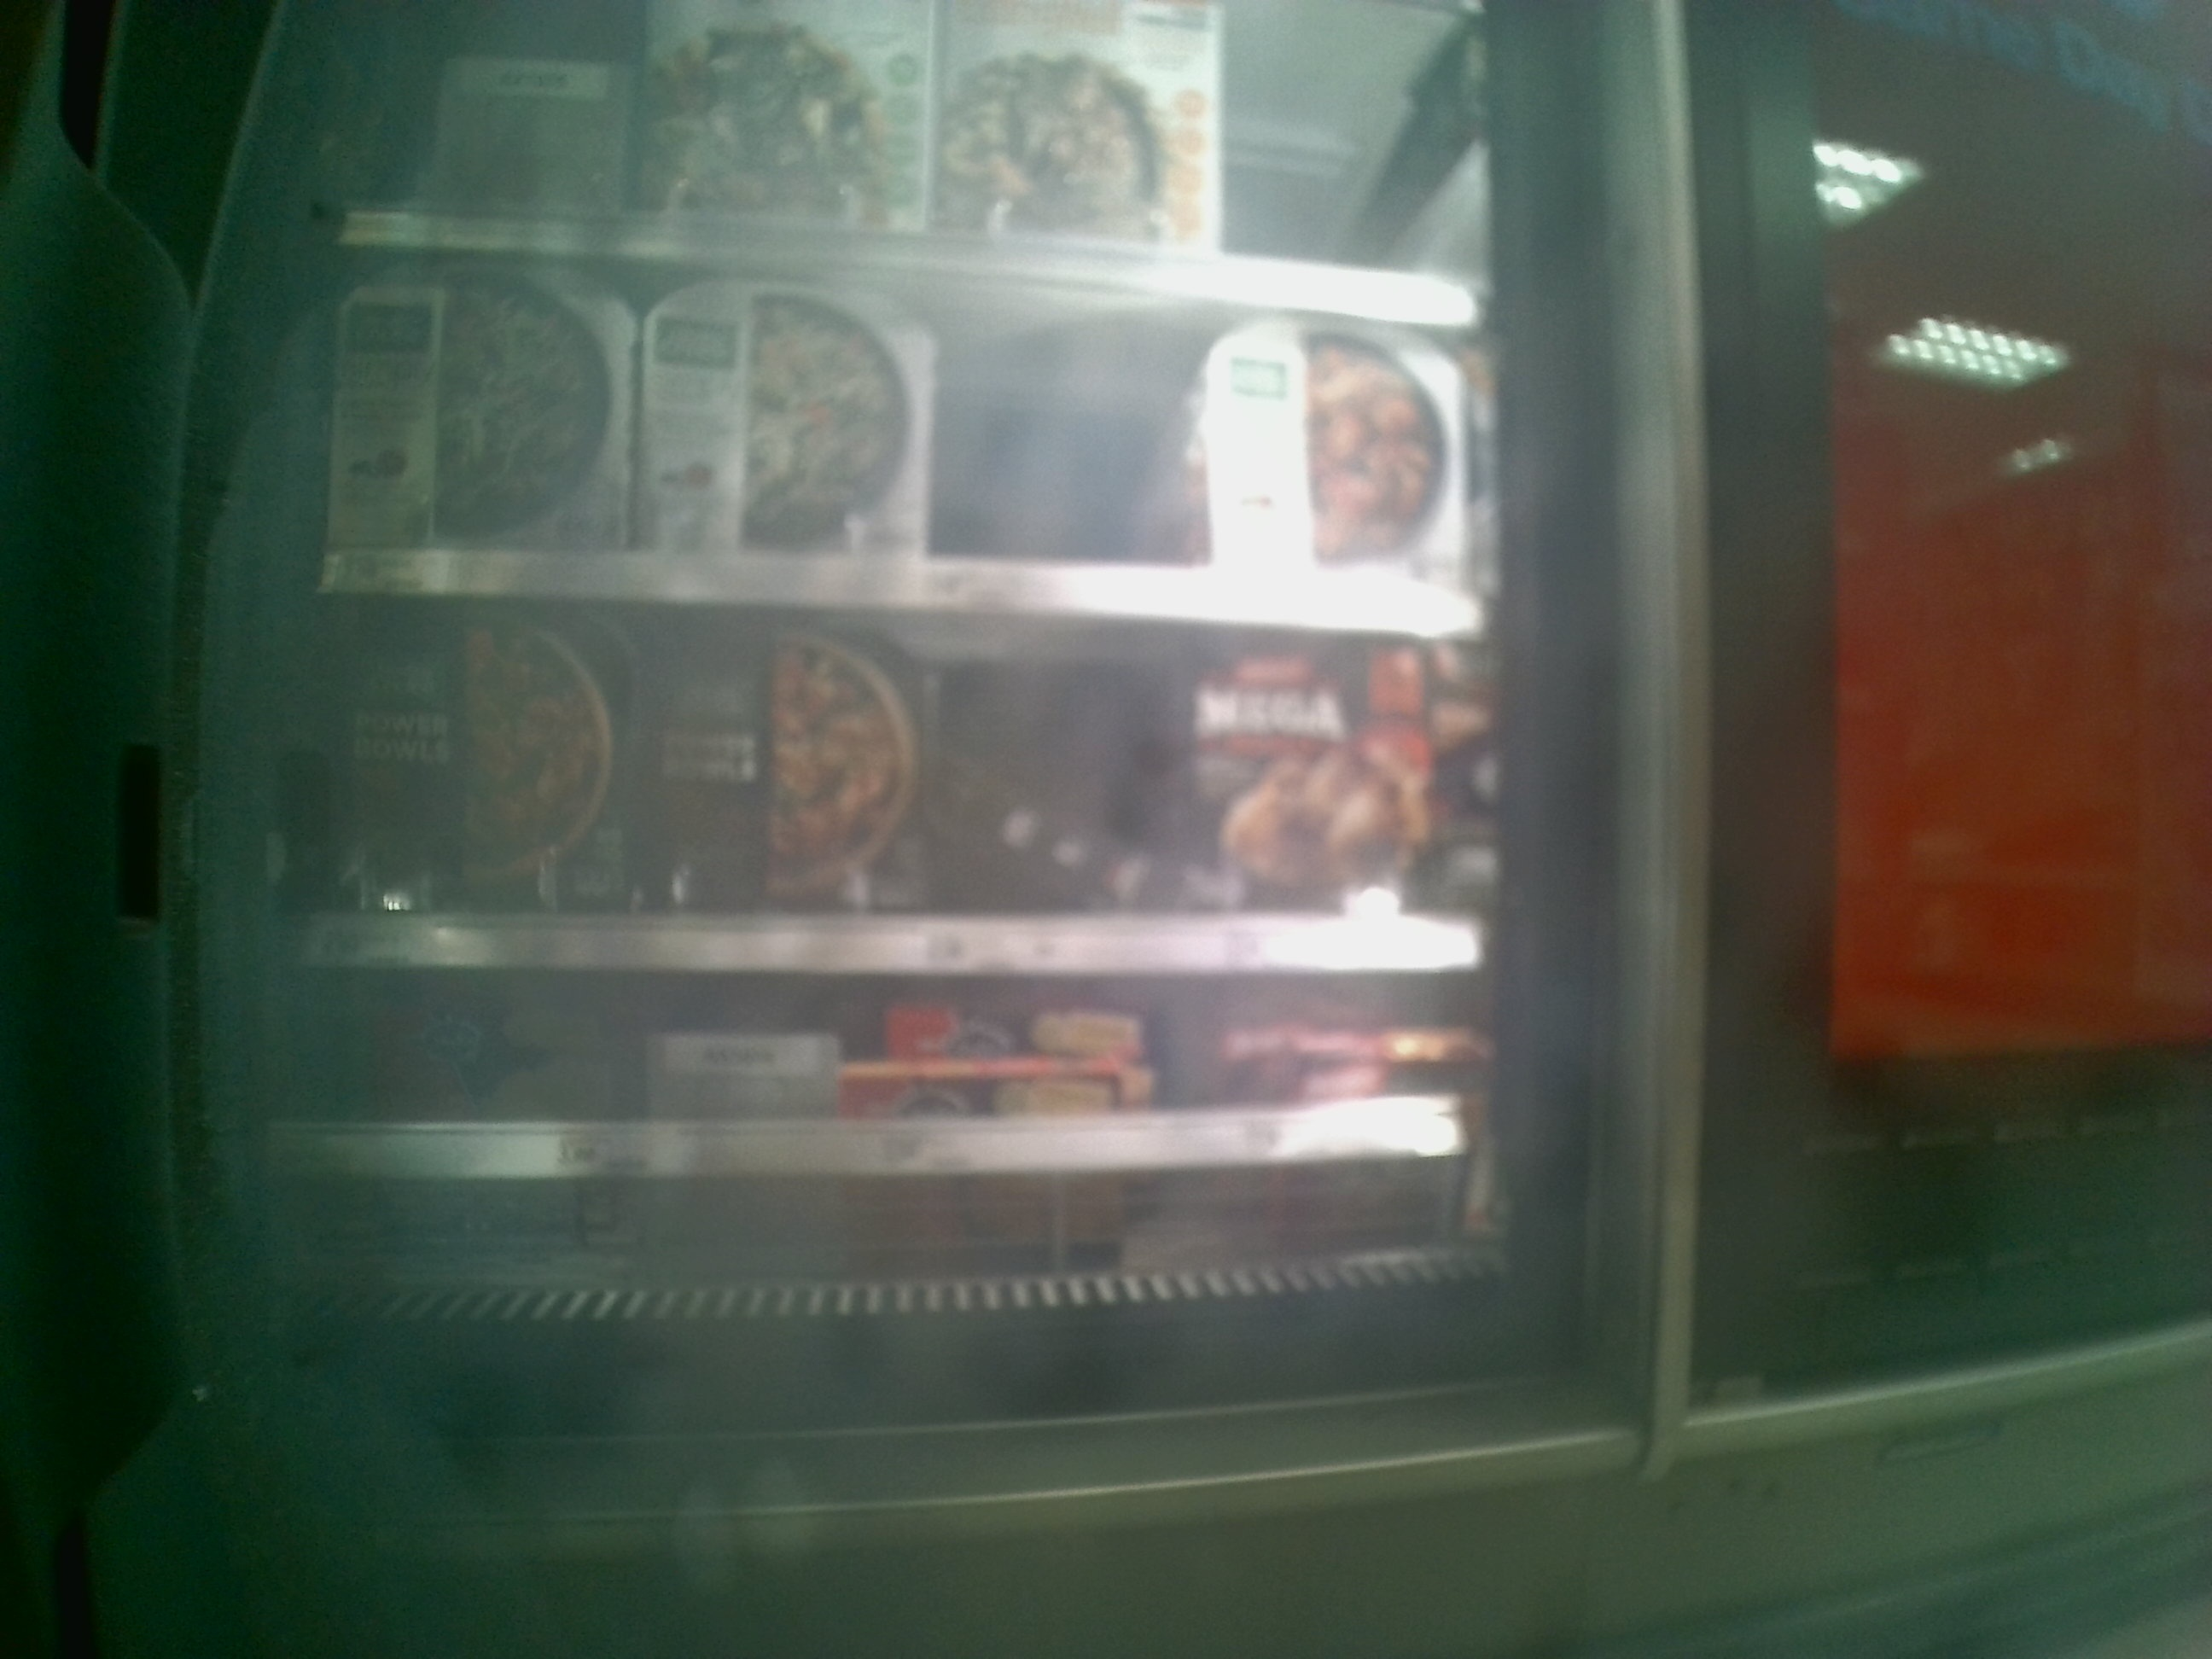shelf: (324, 234, 1493, 631), (296, 603, 1503, 974), (291, 974, 1510, 1310)
